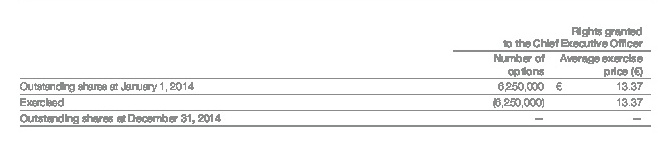table: (0, 0, 660, 147)
